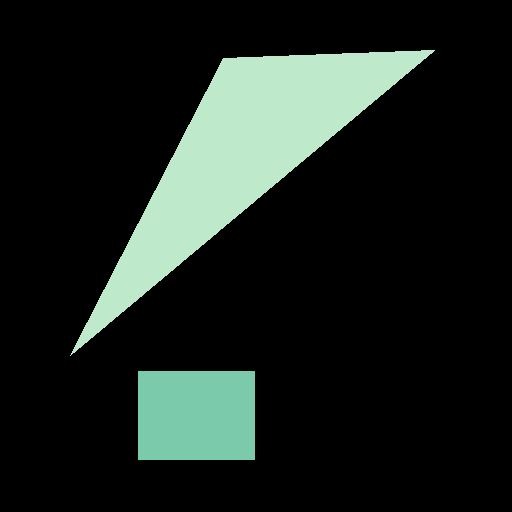rectangle: (138, 371, 254, 459)
triangle: (70, 50, 434, 355)
